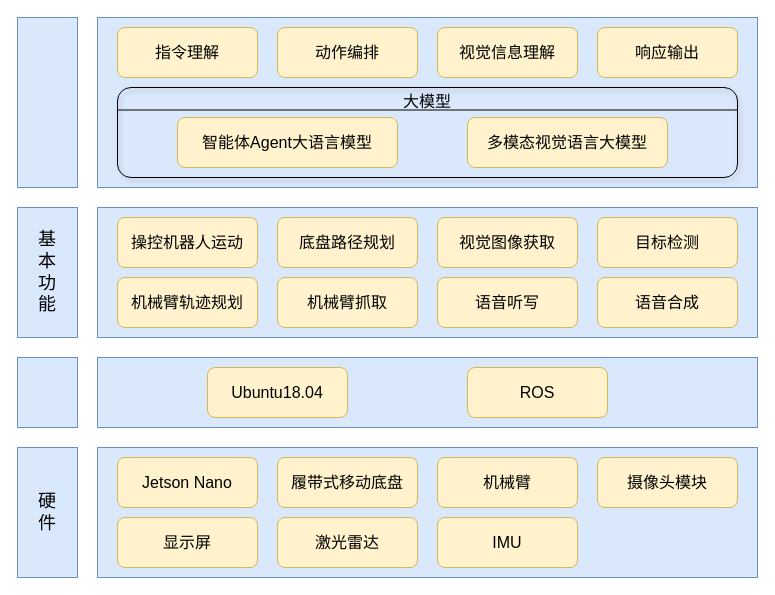
This 775x595 diagram has some shape labels left out. The shapes that lost their labels are listed below. From the top down, each one's centre as x and y in pixels, then its label:
the point at 47,102: 具 身 智 能
the point at 47,392: 系 统
